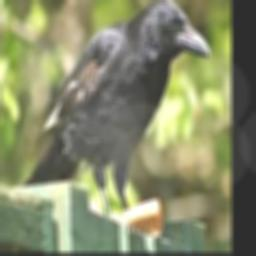Crow: (21, 0, 211, 222)
